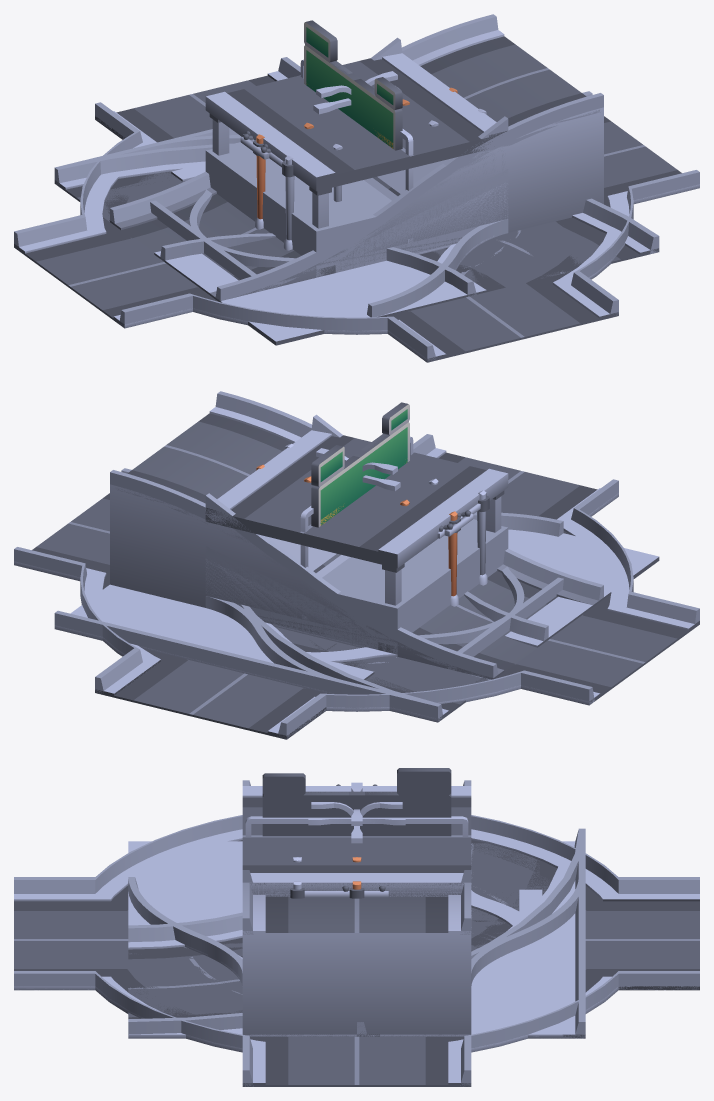
The model's file is kit-roads.glb.
3 renders of one model, top to bottom at view 1: azimuth 30°, elevation 25°; view 2: azimuth 150°, elevation 25°; view 3: azimuth 270°, elevation 25°, orthographic. The views are drawn at different scales.
Parts seen in each view (by area): view 1: road-roundabout, road-bridge, road-slant-flat-curve, road-slant-curve, road-roundabout-barrier, road-curve-pavement, tile-high, road-slant-curve-barrier, road-curve-barrier, road-curve, road-slant-high, road-split-barrier (+16 smaller); view 2: road-roundabout, road-bridge, road-slant-flat-curve, road-curve-pavement, road-slant-curve, road-roundabout-barrier, tile-high, road-slant-curve-barrier, road-curve-intersection-barrier, road-slant-high, road-curve, sign-highway-wide (+18 smaller); view 3: road-roundabout, road-slant-curve, road-curve-pavement, road-roundabout-barrier, road-bridge, road-curve, sign-highway-detailed, road-slant-flat-curve, road-curve-barrier, road-split-barrier, road-curve-intersection, sign-highway-wide (+12 smaller).
Boxes of the visible parts, x1,y1,x2,y2 form: road-roundabout: [14, 71, 699, 362]; road-bridge: [205, 53, 506, 276]; road-slant-flat-curve: [109, 30, 586, 302]; road-slant-curve: [121, 34, 603, 298]; road-roundabout-barrier: [14, 57, 699, 361]; road-curve-pavement: [58, 161, 648, 345]; tile-high: [205, 142, 508, 274]; road-slant-curve-barrier: [110, 14, 603, 300]; road-curve-barrier: [54, 143, 659, 296]; road-curve: [54, 161, 659, 296]; road-slant-high: [336, 148, 508, 269]; road-split-barrier: [151, 135, 508, 317]; road-roundabout: [14, 448, 699, 739]; road-bridge: [205, 430, 508, 653]; road-slant-flat-curve: [116, 407, 604, 679]; road-curve-pavement: [55, 530, 659, 720]; road-slant-curve: [110, 411, 587, 678]; road-roundabout-barrier: [14, 434, 699, 738]; tile-high: [206, 519, 508, 650]; road-slant-curve-barrier: [110, 391, 603, 679]; road-curve-intersection-barrier: [54, 610, 442, 722]; road-slant-high: [205, 511, 378, 646]; road-curve: [268, 623, 544, 722]; sign-highway-wide: [320, 423, 407, 521]; road-roundabout: [14, 829, 699, 1086]; road-slant-curve: [242, 931, 471, 1036]; road-curve-pavement: [128, 841, 585, 1038]; road-roundabout-barrier: [14, 780, 699, 1086]; road-bridge: [242, 786, 471, 896]; road-curve: [128, 841, 575, 1018]; sign-highway-detailed: [262, 768, 451, 836]; road-slant-flat-curve: [253, 895, 460, 932]; road-curve-barrier: [128, 828, 585, 1034]; road-split-barrier: [128, 877, 585, 985]; road-curve-intersection: [129, 841, 585, 1038]; sign-highway-wide: [265, 791, 448, 836].
Size of the model in its own units: 3 by 0.8937 by 3.
Materials: 1 (1 with a texture image).
